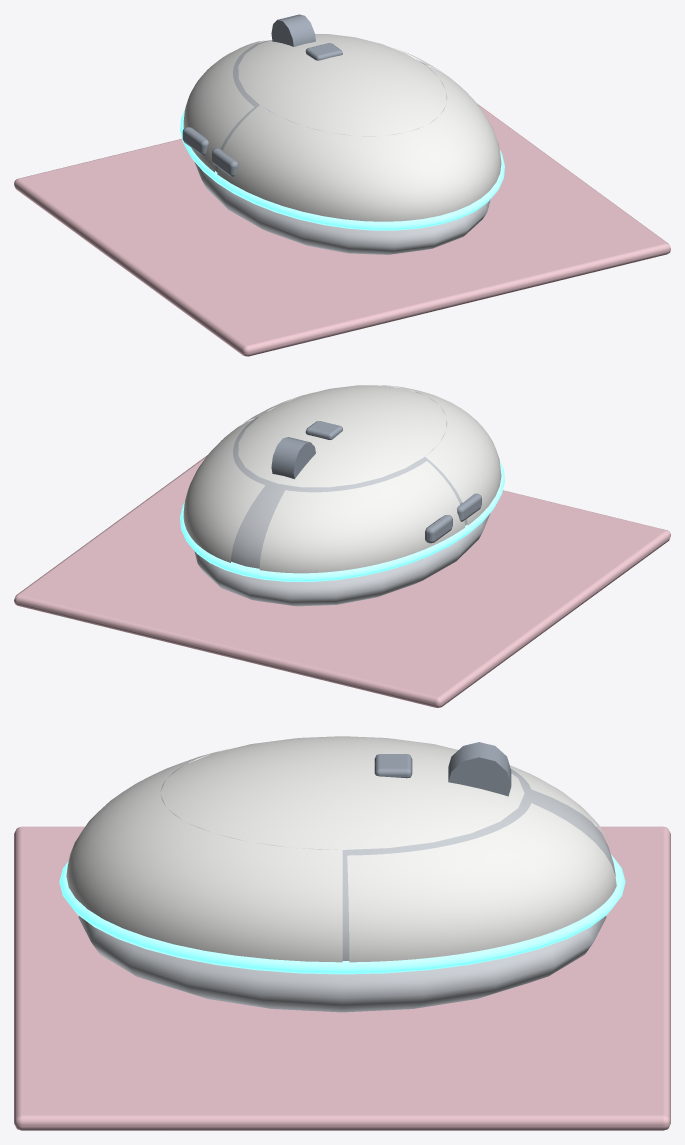
The model's file is cozy-mouse.glb.
The picture shows the model from 3 angles, top to bottom: view 1: azimuth 30°, elevation 25°; view 2: azimuth 150°, elevation 25°; view 3: azimuth 270°, elevation 25°; orthographic projection. The views are drawn at different scales.
Visible parts, largest first — view 1: RoseFabric, MousePorcelain, MouseBase, MouseGlow, MouseControls; view 2: RoseFabric, MousePorcelain, MouseBase, MouseGlow, MouseControls; view 3: RoseFabric, MousePorcelain, MouseBase, MouseGlow, MouseControls.
Part boxes in pixels (x1,y1,x2,y2): RoseFabric: (14,103,670,356); MousePorcelain: (183,34,501,221); MouseBase: (194,40,490,254); MouseGlow: (180,110,504,230); MouseControls: (182,14,342,176); RoseFabric: (14,455,670,707); MousePorcelain: (183,385,501,573); MouseBase: (194,391,490,606); MouseGlow: (180,460,504,581); MouseControls: (271,421,481,543); RoseFabric: (14,826,670,1130); MousePorcelain: (66,736,616,962); MouseBase: (78,763,615,1012); MouseGlow: (59,854,625,974); MouseControls: (374,742,511,796).
Size of the model in its own units: 0.52 by 0.195 by 0.49.
